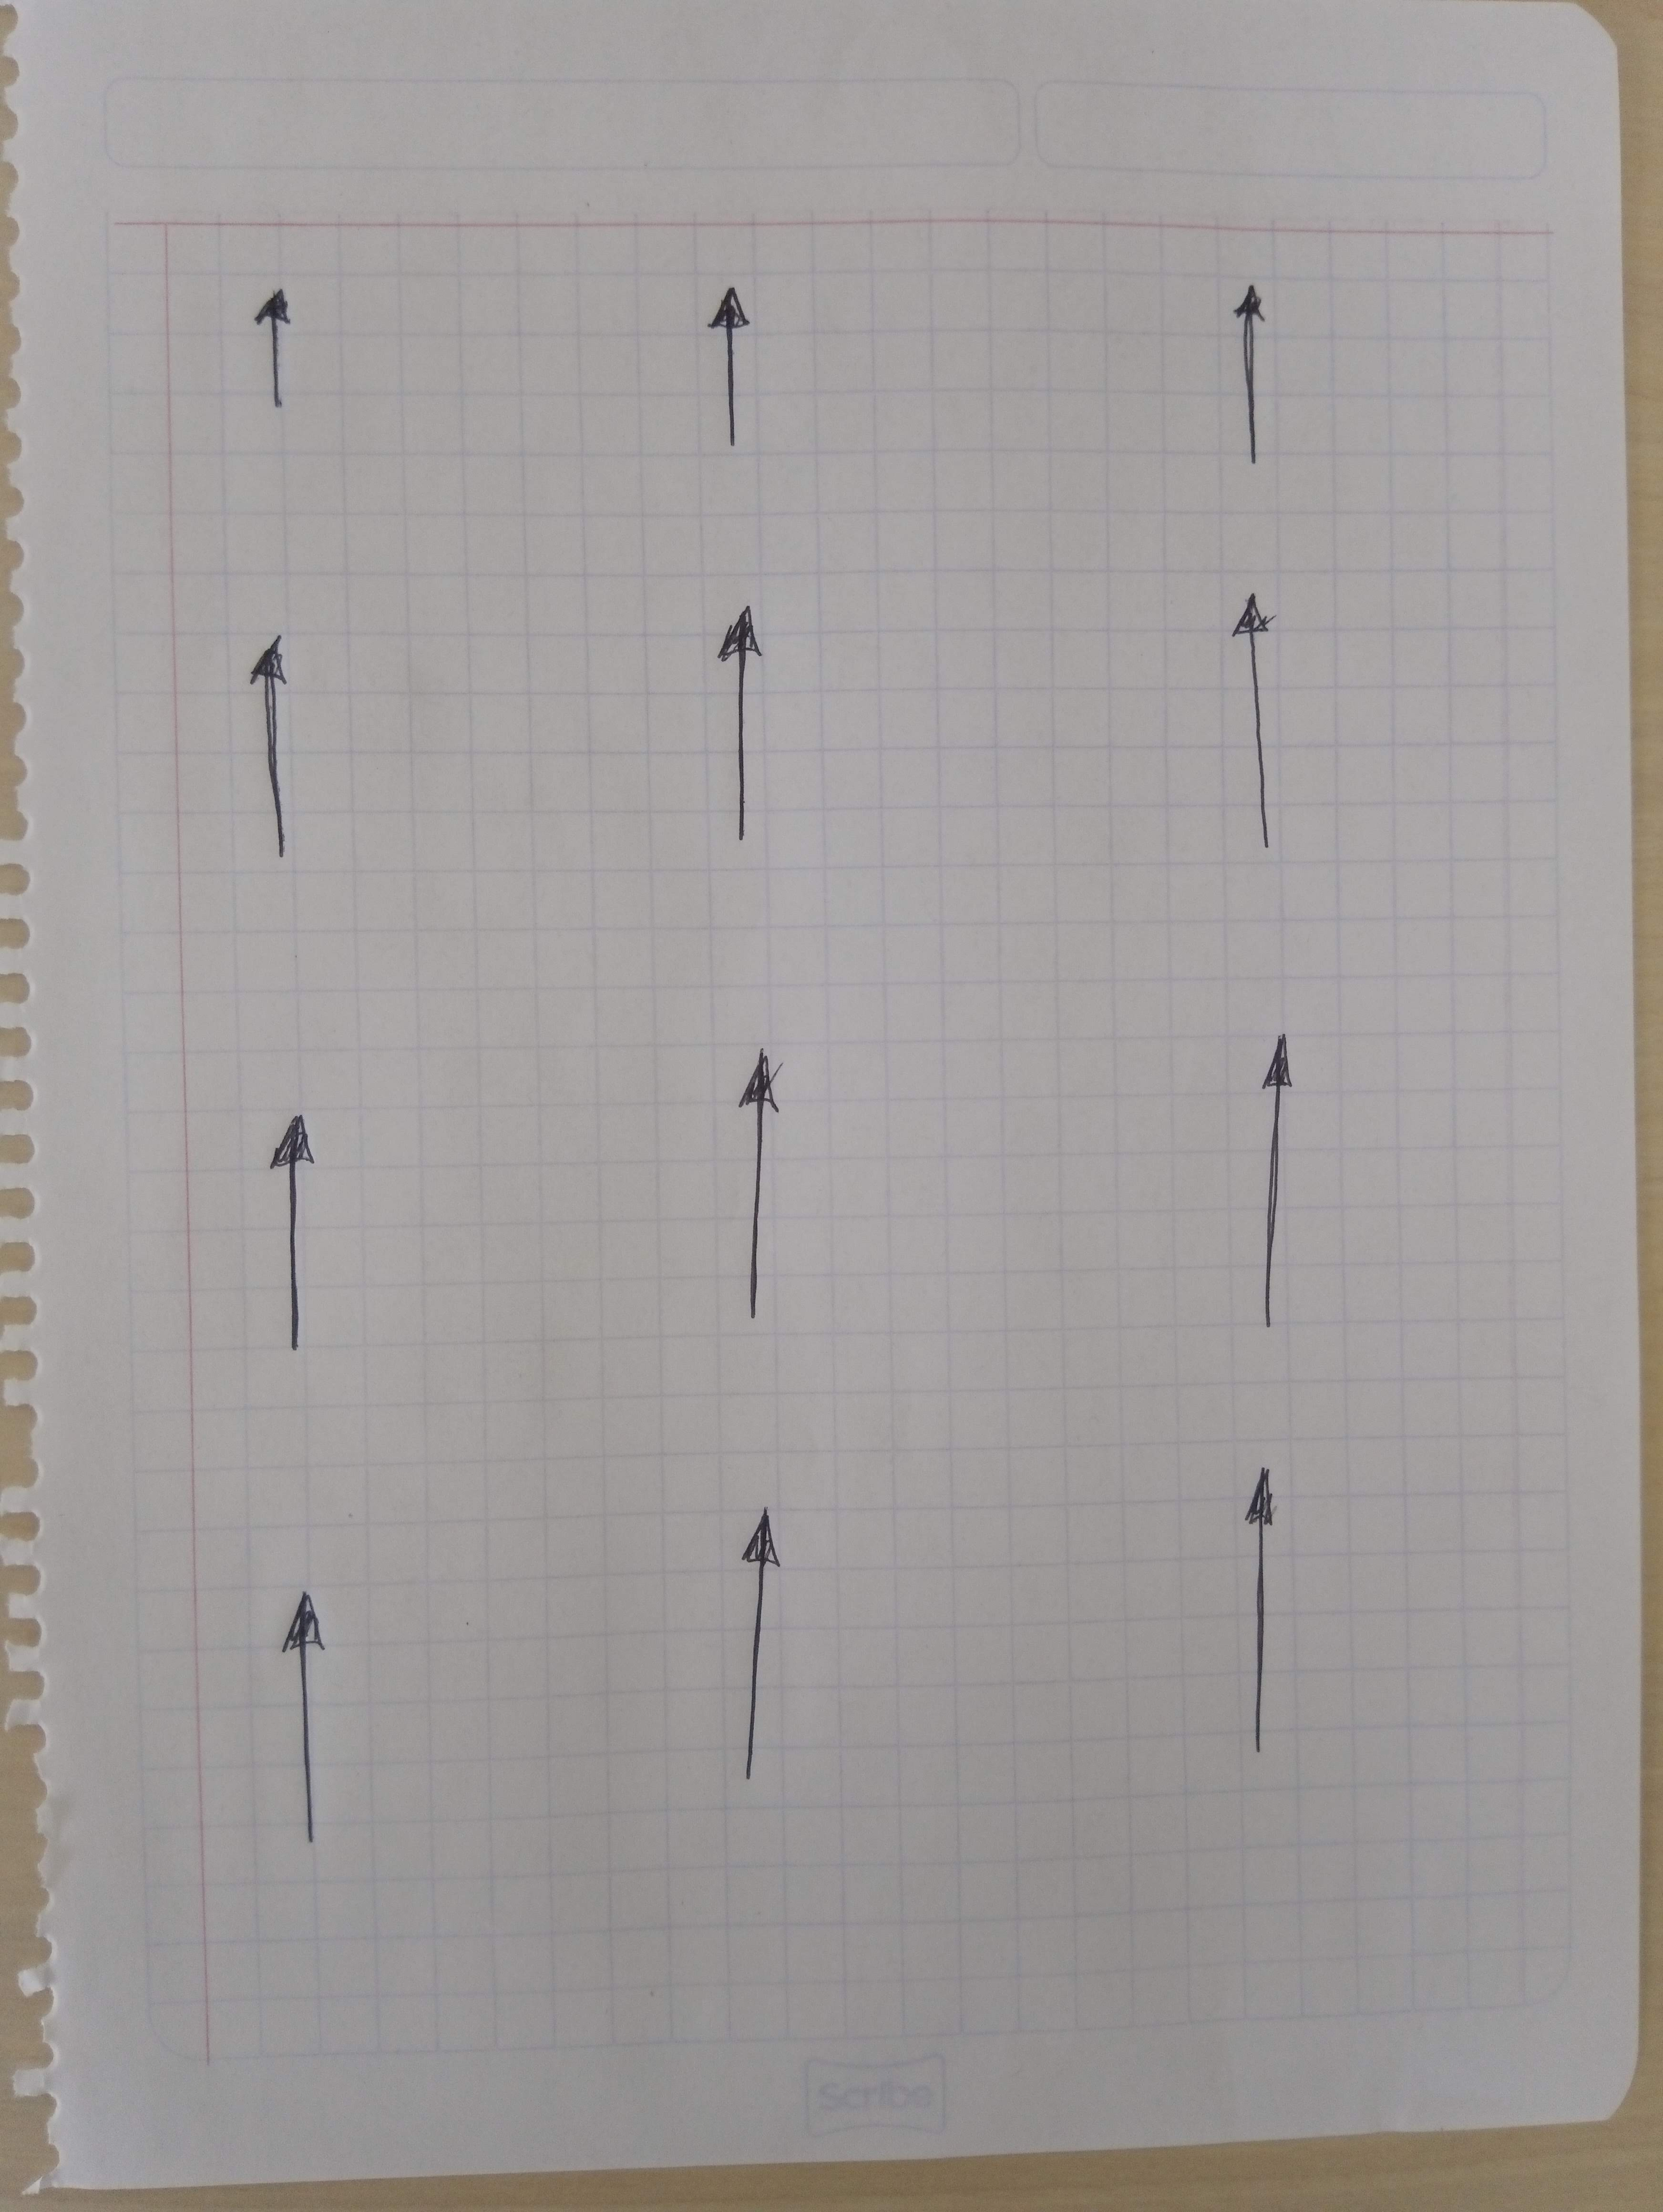arrow_line_up: (699, 1051, 819, 1336), (253, 1583, 377, 1852), (1218, 1461, 1314, 1786), (718, 1496, 798, 1795), (236, 1119, 344, 1337), (1246, 1032, 1333, 1302), (714, 594, 804, 842), (1221, 276, 1322, 492), (1225, 604, 1310, 842), (248, 620, 328, 852), (678, 279, 760, 461), (241, 260, 306, 435)
